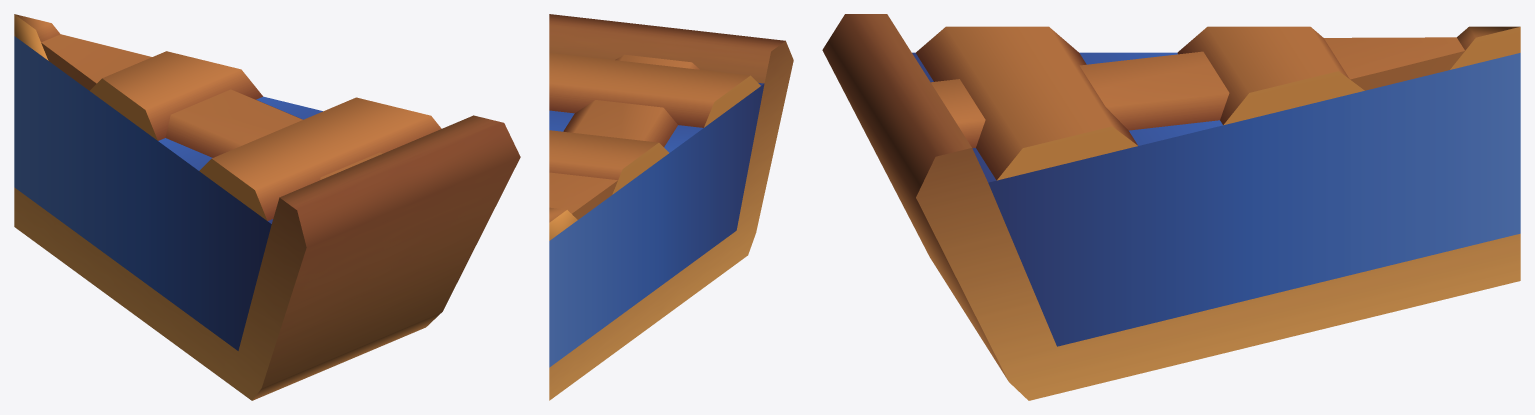
File: m_AmericanPie01_Slice02.fbx
3 renders of one model, left to right at view 1: azimuth 30°, elevation 25°; view 2: azimuth 150°, elevation 25°; view 3: azimuth 270°, elevation 25°, orthographic. The views are drawn at different scales.
Parts seen in each view (by area): view 1: m_AmericanPie01_Slice02; view 2: m_AmericanPie01_Slice02; view 3: m_AmericanPie01_Slice02.
Boxes of the visible parts, bbox=[...] form: m_AmericanPie01_Slice02: bbox=[14, 14, 520, 400]; m_AmericanPie01_Slice02: bbox=[549, 14, 793, 400]; m_AmericanPie01_Slice02: bbox=[822, 14, 1520, 400].
Size of the model in its own units: 7 by 5.91 by 14.
